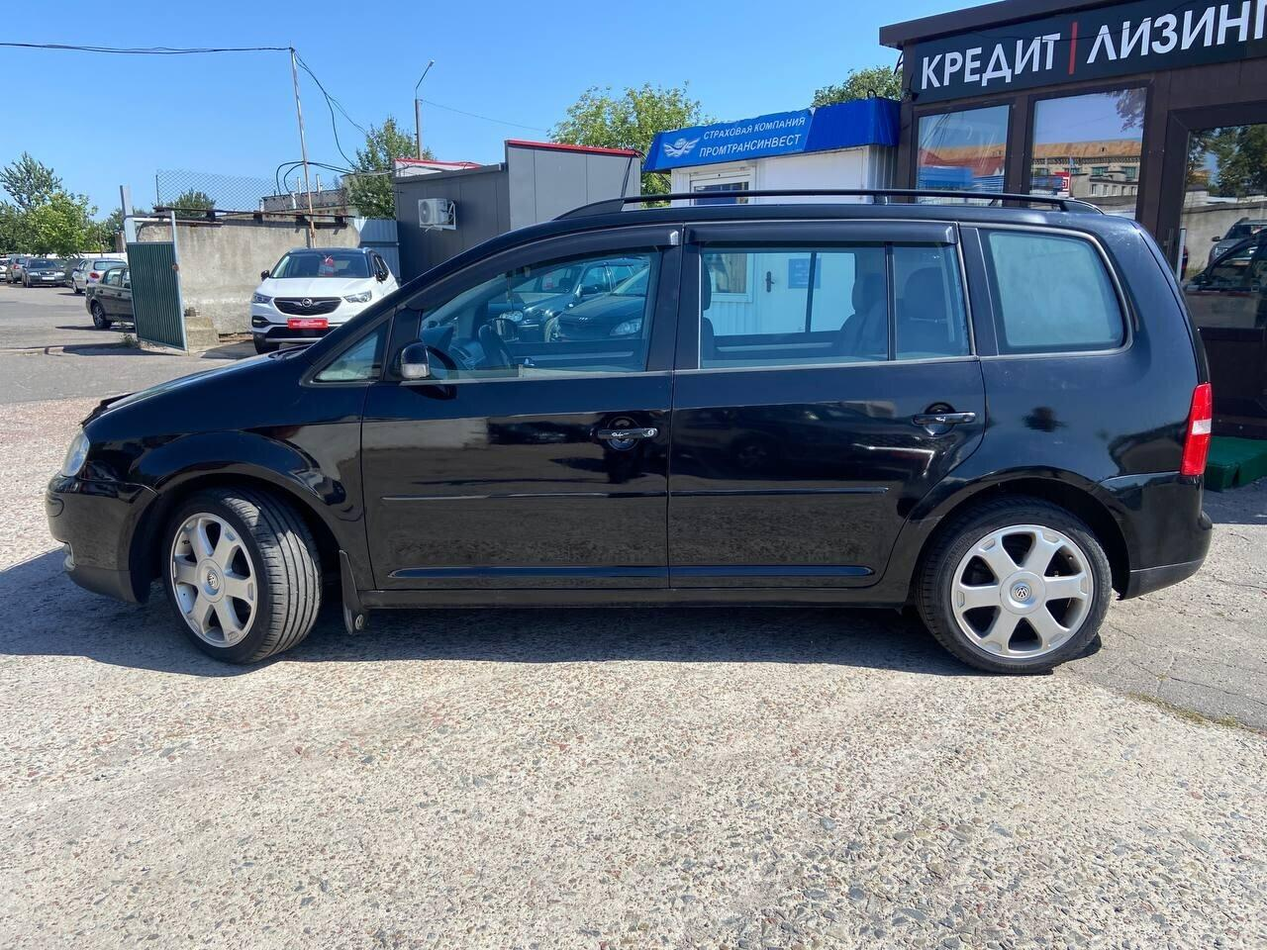Touran_2003-2006: (42, 192, 1218, 677)
